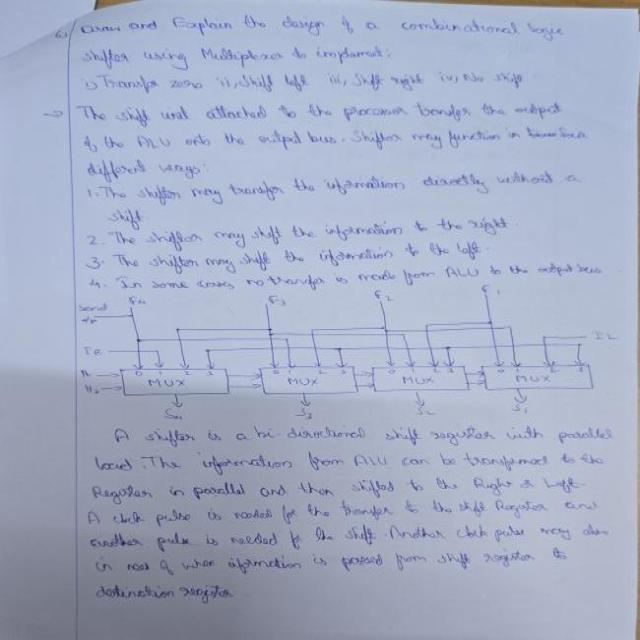Figure Detection - v3 Dataset Version2: (71, 276, 629, 425)
